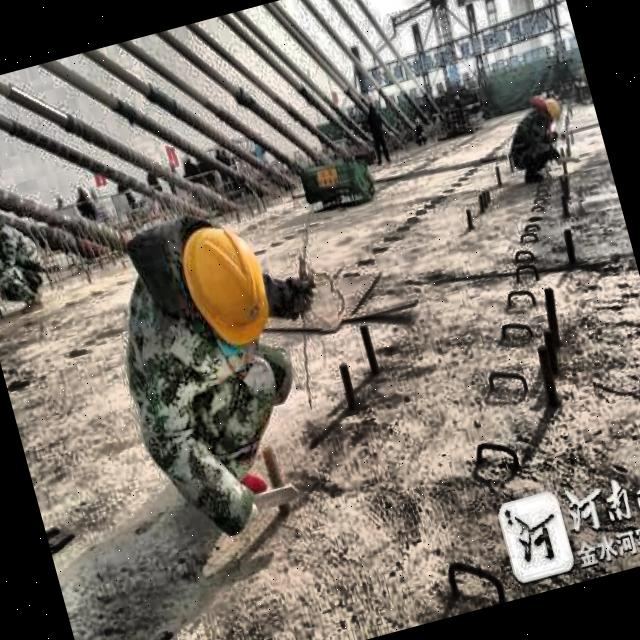helmet: (165, 210, 286, 358), (533, 90, 567, 126)
